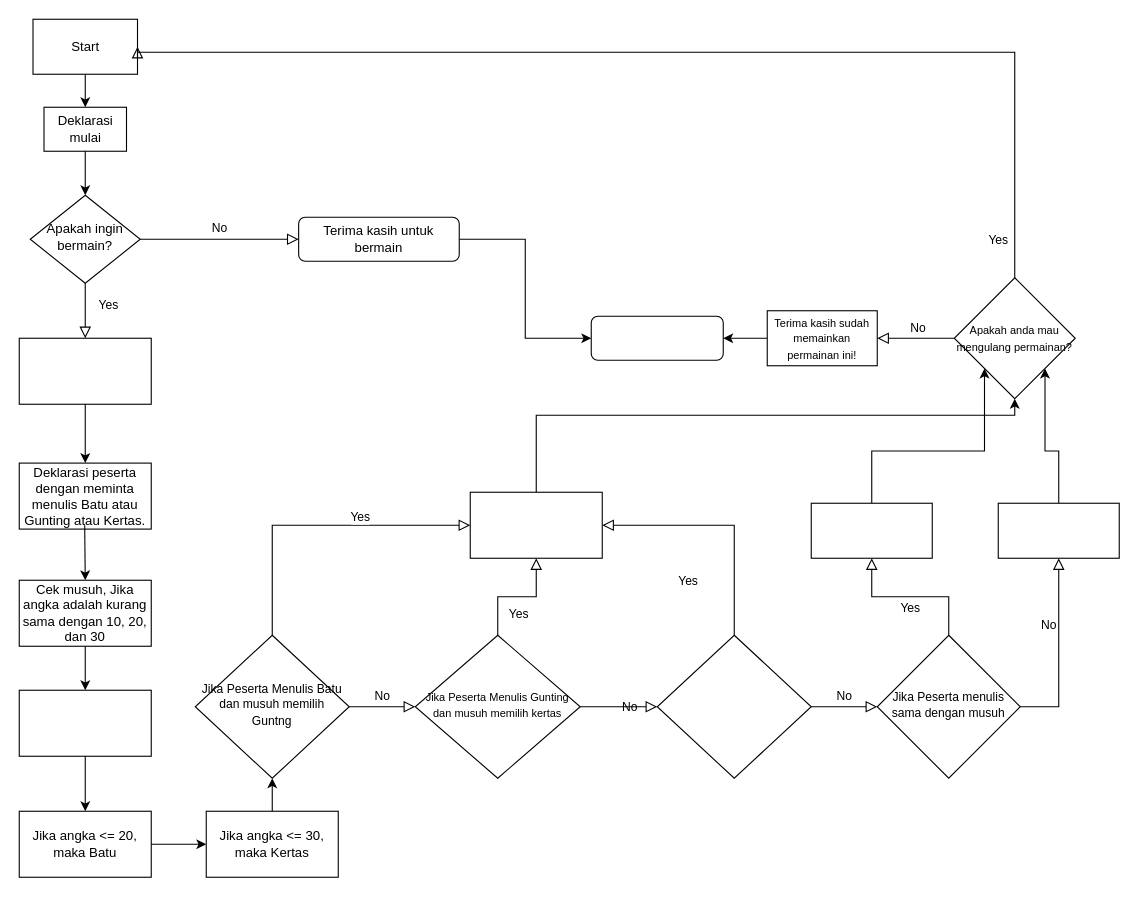
Some shapes in this 1139 by 897 pixel diagram are drawn without their labels. The centre of each missing label's shape, as x and y in pixels:
"Anda kalah, musuh memilih (Pilihan musuh" belongs at pixel 1058 530.
"Anda seri, musuh memilih sama" belongs at pixel 871 530.
"Deklarasi musuh dengan angka random" belongs at pixel 84 370.
"End" belongs at pixel 656 337.
"Jika angka <= 10, maka Gunting" belongs at pixel 84 722.
"Jika Peserta Menulis Kertas dan musuh memilih Batu" belongs at pixel 733 706.
"Selamat Anda menang, musuh memilih (Pilihan musuh)" belongs at pixel 535 524.
